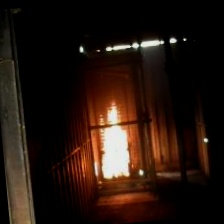fire: (91, 91, 136, 177)
